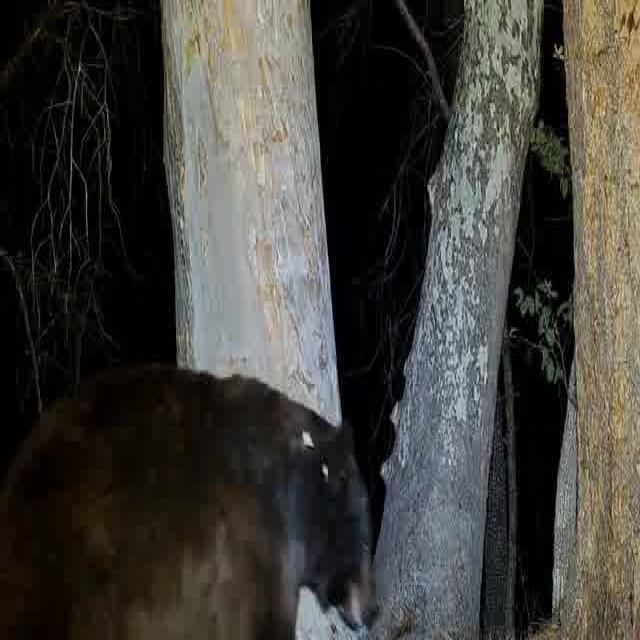bear face: (0, 364, 376, 640)
